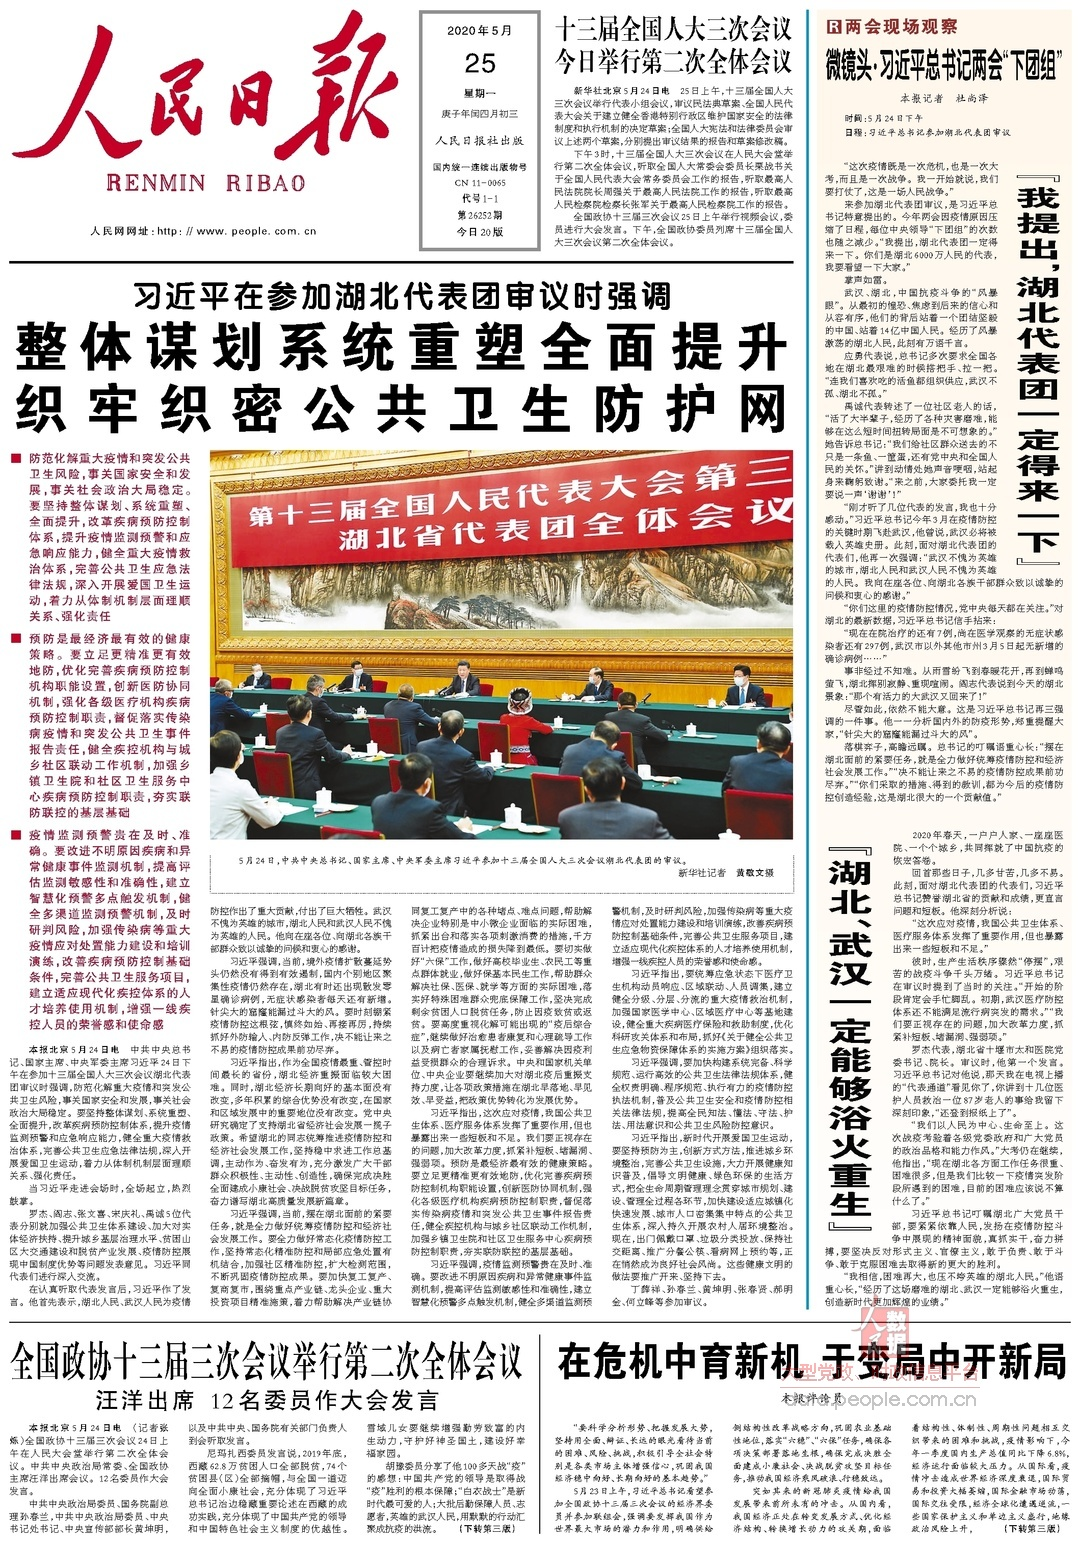pic: (206, 446, 799, 847)
